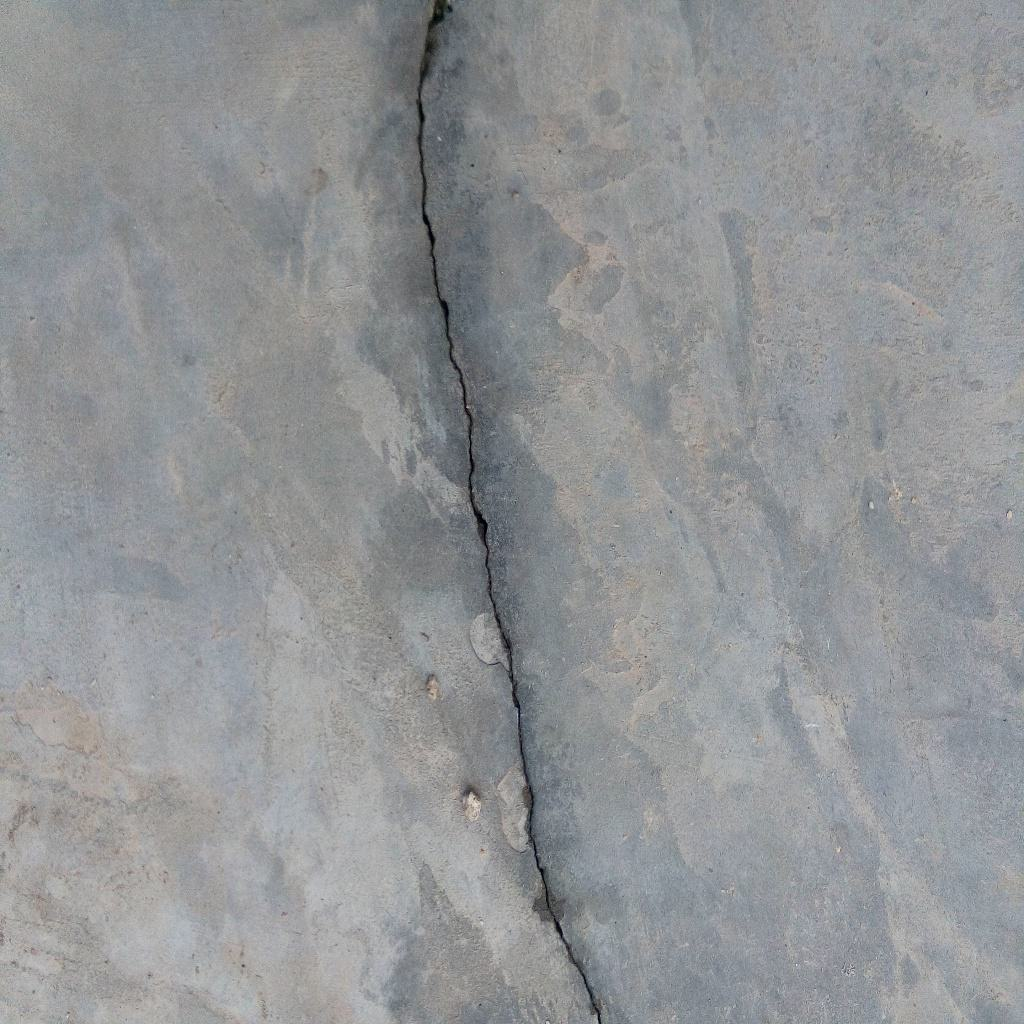Crack: (416, 1, 604, 1024)
